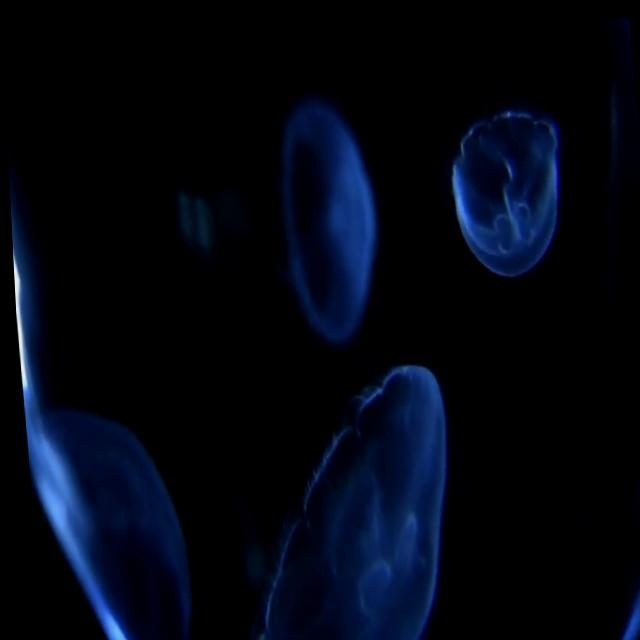Moon-jellyfish: (244, 363, 441, 640), (18, 384, 185, 640), (279, 97, 375, 344), (450, 107, 556, 272)
